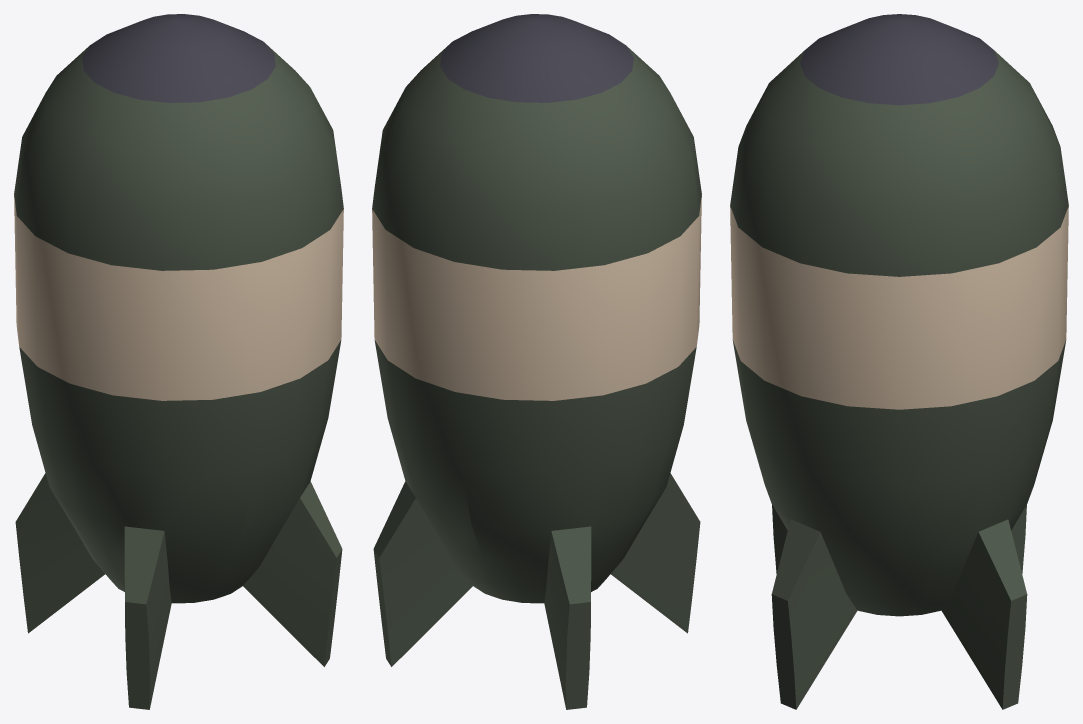
File: nukebomb.fbx
3 renders of one model, left to right at view 1: azimuth 30°, elevation 25°; view 2: azimuth 150°, elevation 25°; view 3: azimuth 270°, elevation 25°, orthographic. The views are drawn at different scales.
Parts seen in each view (by area): view 1: NUKE; view 2: NUKE; view 3: NUKE.
Boxes of the visible parts, box(x1,y1,x2,y2) form: NUKE: box(14, 14, 343, 709); NUKE: box(372, 14, 701, 709); NUKE: box(730, 14, 1068, 709).
Size of the model in its own units: 1.48 by 3.08 by 1.48.
